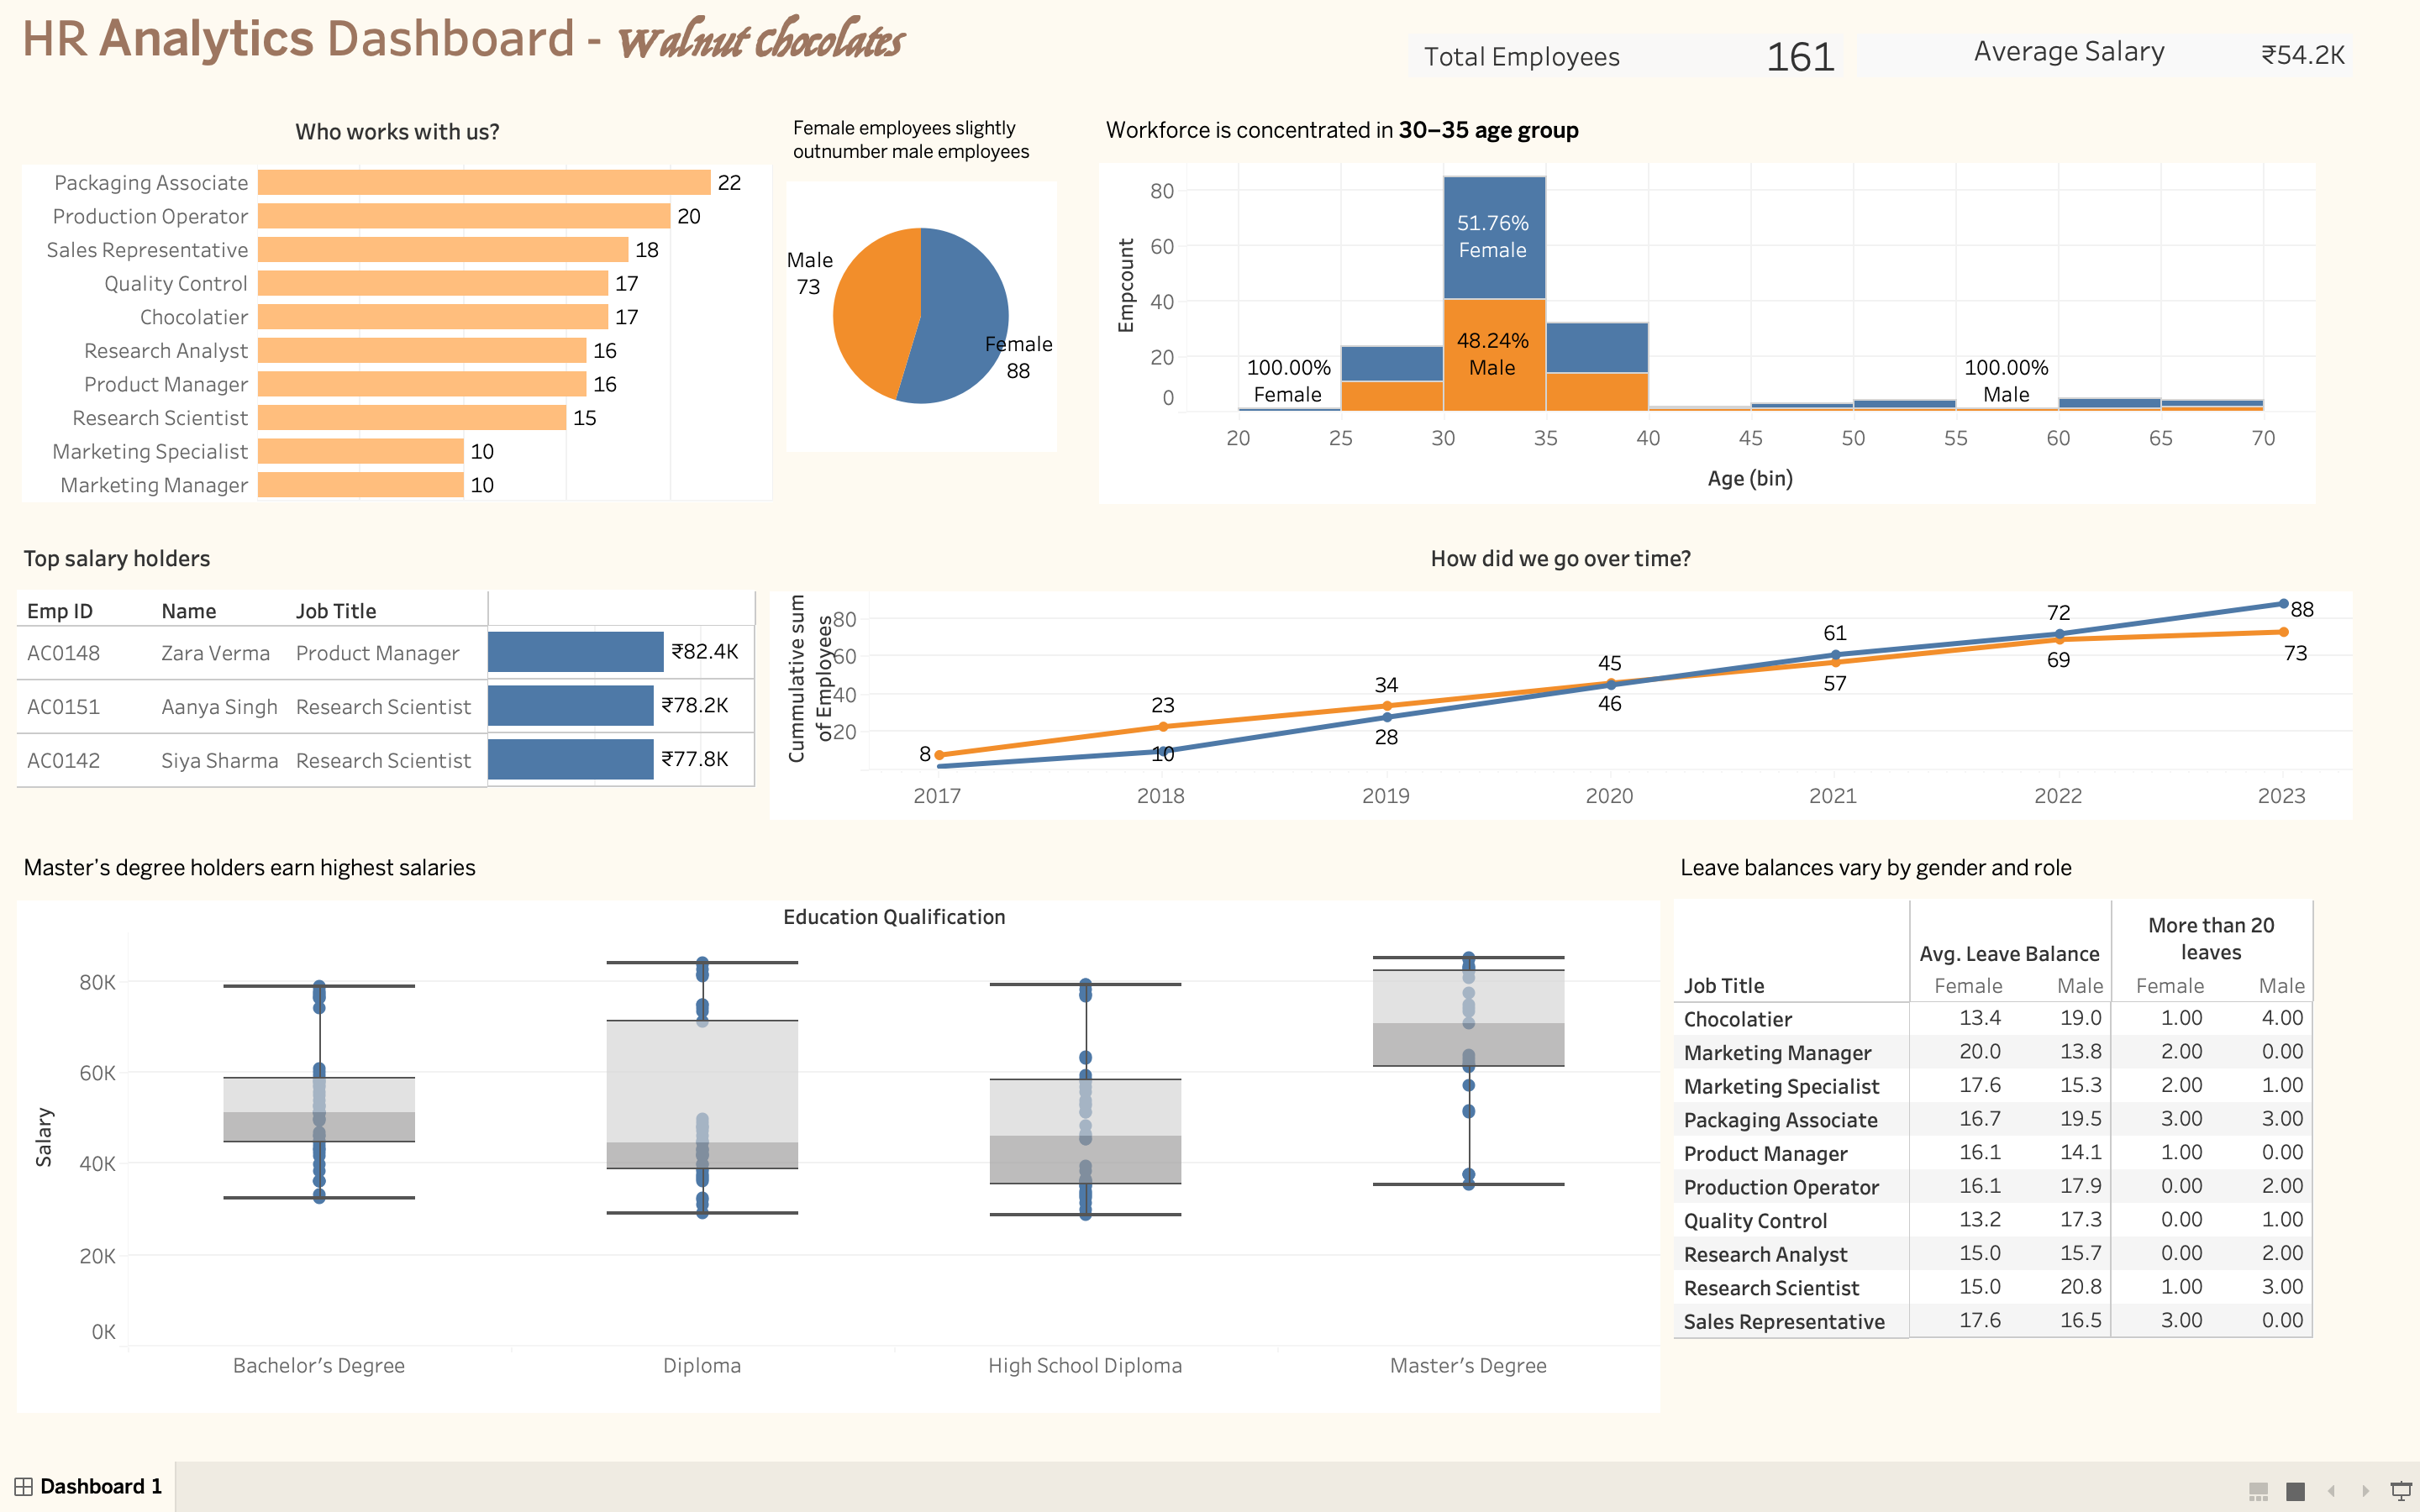

The page's visual inventory and layout, read from the dashboard file:
{"tool":"tableau","page":{"name":"Dashboard 1","canvas":[1000,1000],"units":"permille","ordinal":0},"visuals":[{"type":"text","box":[4.4,1.6,575,56.3]},{"type":"worksheet","title":"Total Employee","mark":"Automatic","box":[579.4,1.6,185.4,56.3]},{"type":"worksheet","title":"Average Salary","mark":"Automatic","box":[764.9,1.6,210.4,56.3]},{"type":"text","box":[813.7,3,158.7,60.6]},{"type":"text","box":[586.7,3.7,158.7,69.3]},{"type":"worksheet","title":"Head Count by Department","mark":"Automatic","rows":["Job Title"],"cols":["Calculation_0622046999781376"],"box":[6.5,70.5,316,279.3]},{"type":"worksheet","title":"Gender distribution","mark":"Pie","box":[322.5,70.5,129.2,279.3]},{"type":"worksheet","title":"Age spread","mark":"Automatic","rows":["Calculation_0622046999781376"],"cols":["Age (bin)"],"box":[451.6,70.5,508.3,279.3]},{"type":"worksheet","title":"Top 3 salary","mark":"Automatic","rows":["Emp ID","Name","Job Title"],"cols":["Salary"],"box":[4.4,362.5,311.1,203.5]},{"type":"worksheet","title":"Employee Count over time","mark":"Automatic","rows":["Calculation_0622046999781376"],"cols":["Date of Join"],"box":[315.5,362.5,659.7,203.5]},{"type":"worksheet","title":"salary spread","mark":"Circle","rows":["Salary"],"cols":["Education Qualification"],"box":[4.4,575.1,684.7,396]},{"type":"worksheet","title":"Employee Leave Balance","mark":"Automatic","rows":["Job Title"],"cols":["Gender"],"box":[689.1,575.1,286.1,396]}]}

Visuals, with their boxes on the dashboard's canvas, which has no fixed pixel size, in thousandths of its width and height (x1, y1, x2, y2). These are canvas units, not pixel positions in the 2420x1512 screenshot, which may show the page scaled, cropped or inside an application window:
text: Rect(4, 2, 579, 58)
"Total Employee" worksheet: Rect(579, 2, 765, 58)
"Average Salary" worksheet: Rect(765, 2, 975, 58)
text: Rect(814, 3, 972, 64)
text: Rect(587, 4, 745, 73)
"Head Count by Department" worksheet: Rect(6, 70, 322, 350)
"Gender distribution" worksheet (Pie marks): Rect(322, 70, 452, 350)
"Age spread" worksheet: Rect(452, 70, 960, 350)
"Top 3 salary" worksheet: Rect(4, 362, 316, 566)
"Employee Count over time" worksheet: Rect(316, 362, 975, 566)
"salary spread" worksheet (Circle marks): Rect(4, 575, 689, 971)
"Employee Leave Balance" worksheet: Rect(689, 575, 975, 971)
